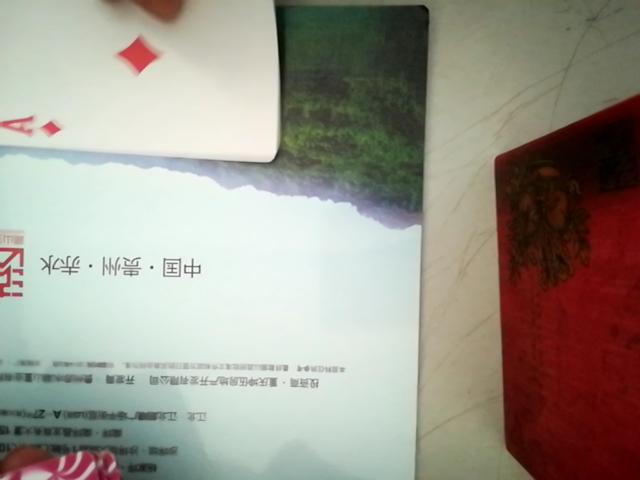fk a: (1, 0, 282, 164)
